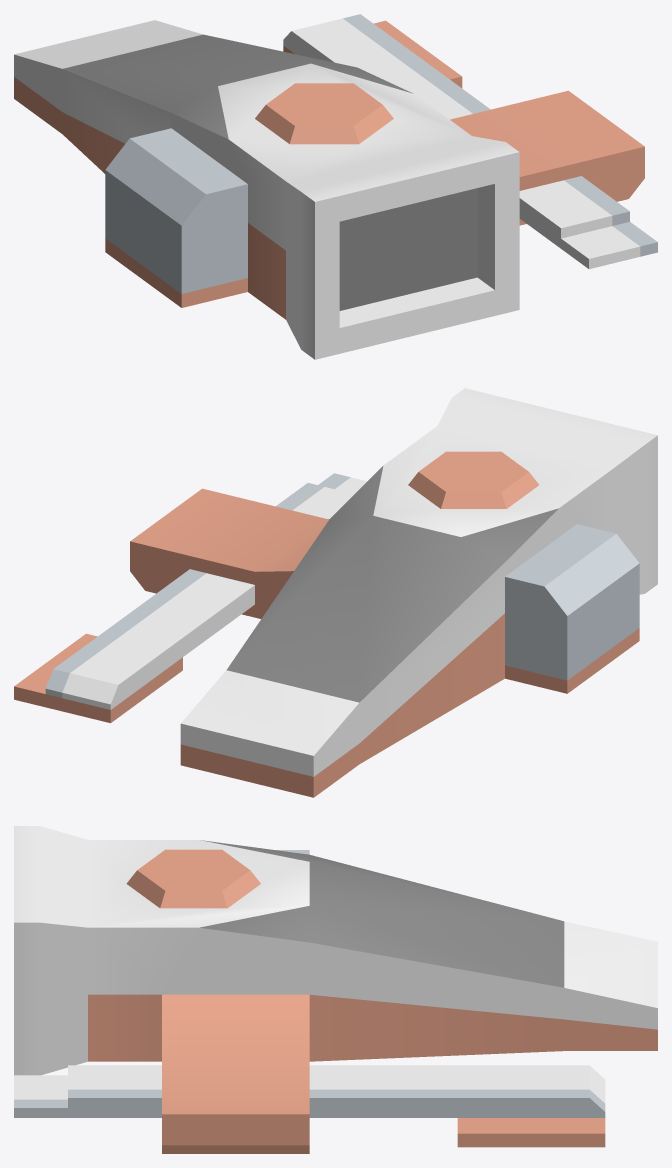
The picture shows the model from 3 angles, top to bottom: view 1: azimuth 30°, elevation 25°; view 2: azimuth 150°, elevation 25°; view 3: azimuth 270°, elevation 25°; orthographic projection. The views are drawn at different scales.
Visible parts, largest first — view 1: spaceCraft5; view 2: spaceCraft5; view 3: spaceCraft5.
Part boxes in pixels (bbox=[...]): spaceCraft5: bbox=[14, 14, 657, 359]; spaceCraft5: bbox=[14, 388, 657, 797]; spaceCraft5: bbox=[14, 826, 657, 1153].
Bounding box in the file's own units: 13.82 × 4.63 × 17.2.
